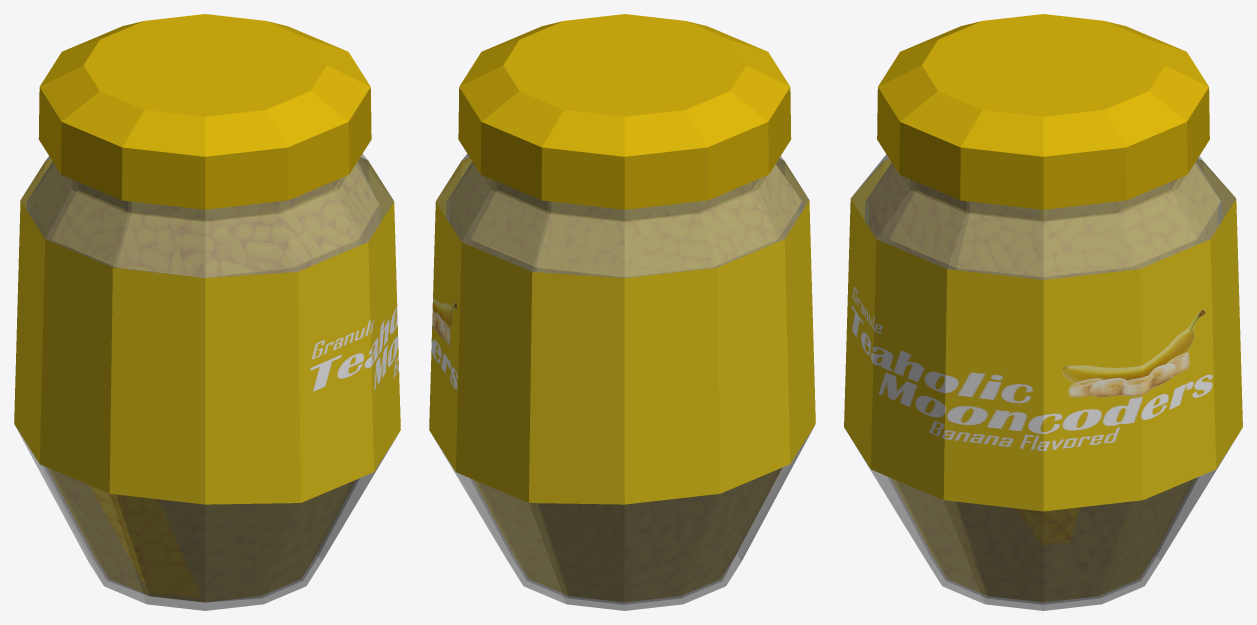
File: BananaProductContainer.fbx
3 renders of one model, left to right at view 1: azimuth 30°, elevation 25°; view 2: azimuth 150°, elevation 25°; view 3: azimuth 270°, elevation 25°, orthographic.
Parts seen in each view (by area): view 1: BananaContainer, BananaCover, BananaGranule, BananaGranule_5, BananaGranule_4; view 2: BananaContainer, BananaCover, BananaGranule, BananaGranule_5, BananaGranule_4; view 3: BananaContainer, BananaCover, BananaGranule_5, BananaGranule, BananaGranule_4.
Boxes of the visible parts, x1,y1,x2,y2 form: BananaContainer: [14, 154, 400, 610]; BananaCover: [38, 14, 371, 209]; BananaGranule: [48, 468, 355, 601]; BananaGranule_5: [28, 162, 377, 276]; BananaGranule_4: [30, 202, 379, 277]; BananaContainer: [429, 154, 815, 610]; BananaCover: [458, 14, 791, 209]; BananaGranule: [474, 468, 781, 601]; BananaGranule_5: [448, 162, 801, 275]; BananaGranule_4: [450, 207, 799, 277]; BananaContainer: [844, 154, 1242, 610]; BananaCover: [877, 14, 1209, 209]; BananaGranule_5: [866, 162, 1220, 275]; BananaGranule: [892, 479, 1194, 601]; BananaGranule_4: [868, 207, 1218, 279].
Size of the model in its own units: 61 by 86.5 by 63.04.
Materials: 5 (3 with a texture image).
